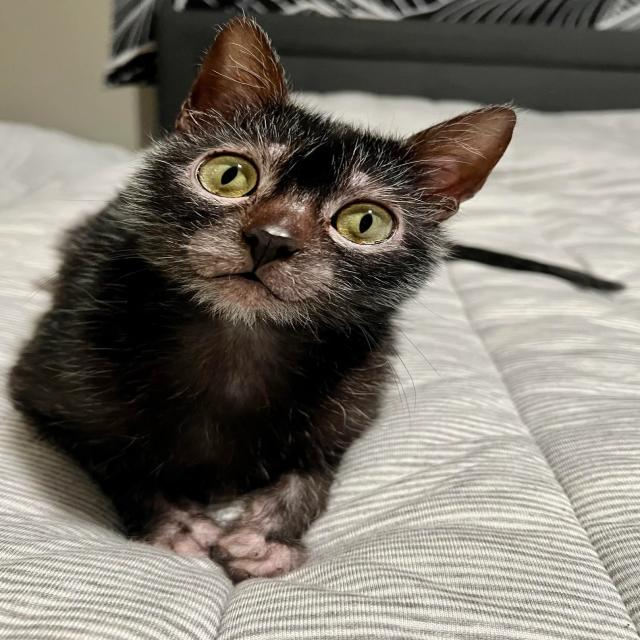Lykoi: (0, 9, 627, 589)
